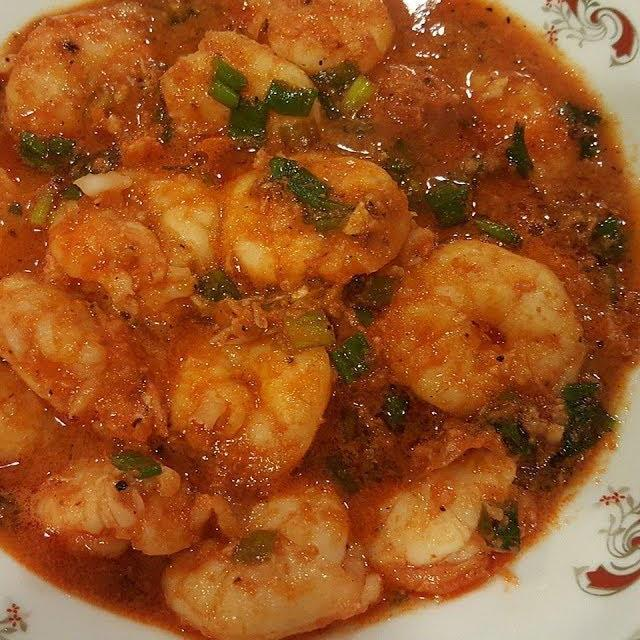tom: (371, 230, 590, 429), (149, 463, 391, 640), (331, 409, 541, 601), (162, 286, 342, 496), (0, 260, 182, 457), (37, 156, 241, 331), (0, 0, 195, 174), (214, 144, 416, 301), (146, 20, 330, 186), (15, 434, 221, 570), (213, 0, 402, 85), (0, 293, 65, 479), (0, 138, 46, 294)
